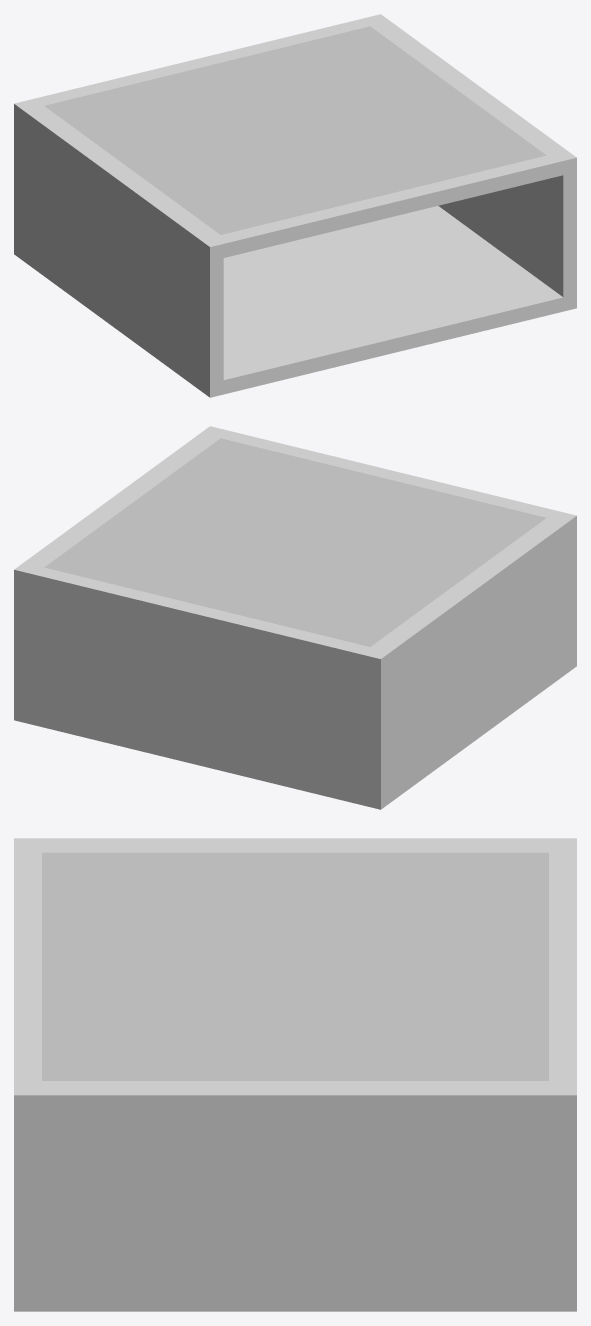
File: KAC-F600_Fridge_V1_DrawerHolder.glb
The picture shows the model from 3 angles, top to bottom: view 1: azimuth 30°, elevation 25°; view 2: azimuth 150°, elevation 25°; view 3: azimuth 270°, elevation 25°; orthographic projection. The views are drawn at different scales.
Visible parts, largest first — view 1: KAC-F600_Fridge_V1_DrawerHolder; view 2: KAC-F600_Fridge_V1_DrawerHolder; view 3: KAC-F600_Fridge_V1_DrawerHolder.
Part boxes in pixels (<box>): KAC-F600_Fridge_V1_DrawerHolder: <box>14,14,576,397</box>; KAC-F600_Fridge_V1_DrawerHolder: <box>14,426,576,809</box>; KAC-F600_Fridge_V1_DrawerHolder: <box>14,838,576,1311</box>.
Bounding box in the file's own units: 0.54 × 0.2119 × 0.5.
Materials: 1 (1 with a texture image).
